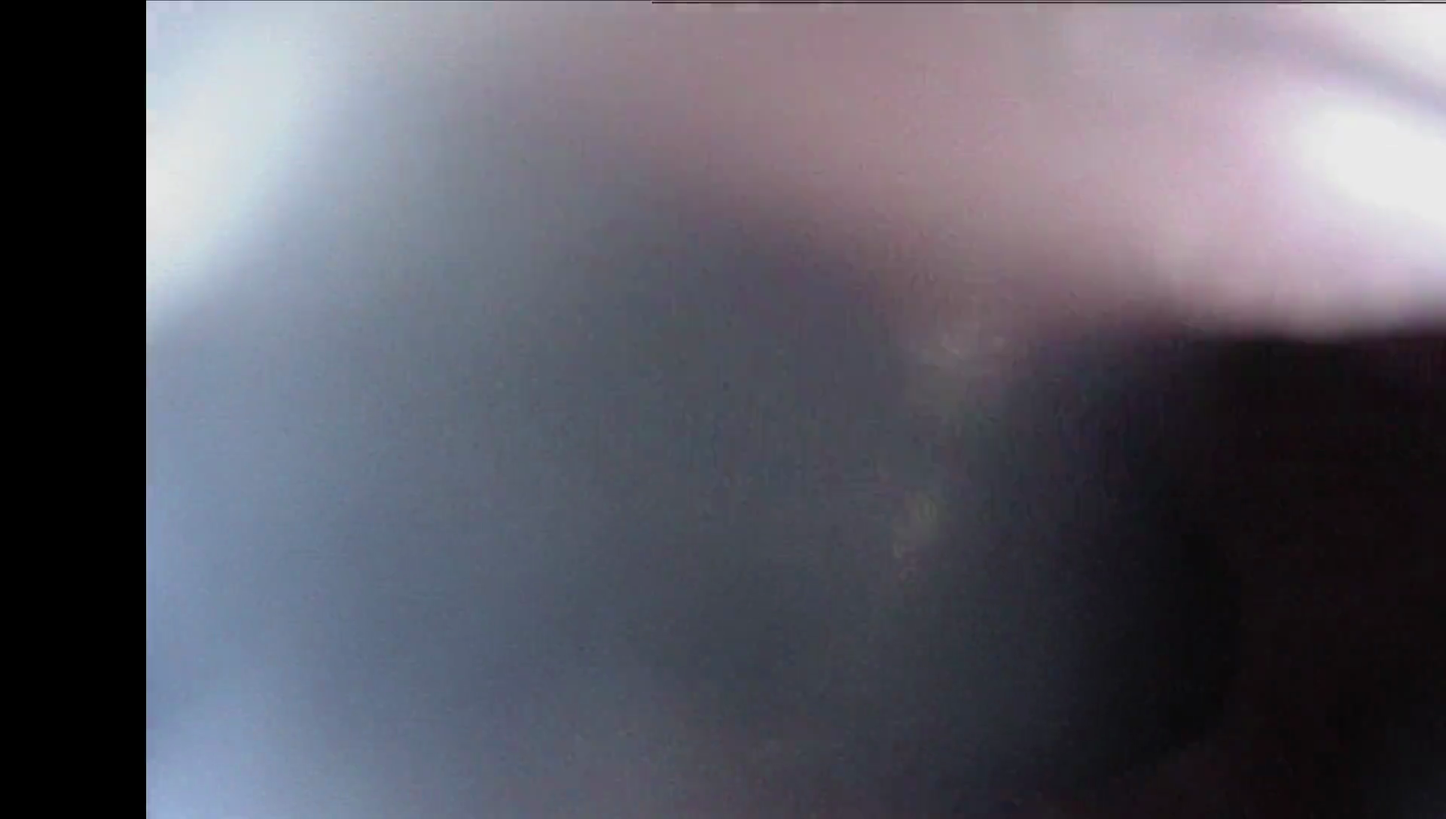close_wall: (554, 0, 1446, 299)
next: (912, 288, 1446, 819)
